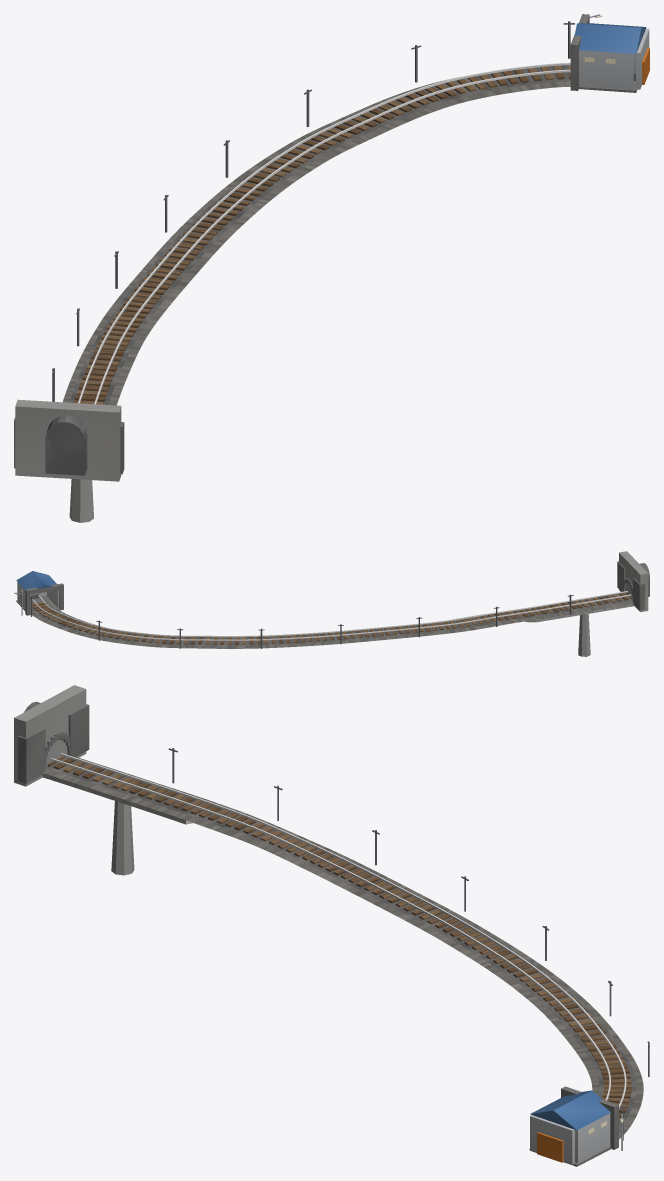
Rendered from Rail_P2.fbx.
3 views of the same model, one above another, from view 1: azimuth 30°, elevation 25°; view 2: azimuth 150°, elevation 25°; view 3: azimuth 270°, elevation 25° (orthographic). The views are drawn at different scales.
Visible parts, largest first — view 1: Rail.Sleepers, Rail.Portal, Rail.Ballast, Rail.Bed, Rail.Shed, Rail.Rail.001, Rail.Rail, Rail.Masts, Rail.Piers; view 2: Rail.Sleepers, Rail.Bed, Rail.Ballast, Rail.Shed, Rail.Portal, Rail.Rail.001, Rail.Rail, Rail.Piers, Rail.Masts, Rail.Deck0; view 3: Rail.Sleepers, Rail.Ballast, Rail.Bed, Rail.Shed, Rail.Portal, Rail.Rail.001, Rail.Rail, Rail.Piers, Rail.Deck0, Rail.Masts.
Part boxes in pixels (x1=…): Rail.Sleepers: x1=73, y1=65, x2=570, y2=404; Rail.Portal: x1=14, y1=399, x2=124, y2=481; Rail.Ballast: x1=62, y1=77, x2=570, y2=405; Rail.Bed: x1=69, y1=65, x2=570, y2=404; Rail.Shed: x1=570, y1=14, x2=649, y2=92; Rail.Rail.001: x1=78, y1=62, x2=633, y2=403; Rail.Rail: x1=94, y1=69, x2=570, y2=404; Rail.Masts: x1=52, y1=21, x2=574, y2=401; Rail.Piers: x1=69, y1=479, x2=93, y2=522; Rail.Sleepers: x1=32, y1=592, x2=632, y2=644; Rail.Bed: x1=30, y1=592, x2=632, y2=645; Rail.Ballast: x1=32, y1=600, x2=633, y2=648; Rail.Shed: x1=16, y1=571, x2=63, y2=615; Rail.Portal: x1=617, y1=551, x2=649, y2=611; Rail.Rail.001: x1=30, y1=594, x2=631, y2=640; Rail.Rail: x1=36, y1=591, x2=627, y2=637; Rail.Piers: x1=578, y1=614, x2=590, y2=656; Rail.Masts: x1=30, y1=594, x2=573, y2=648; Rail.Deck0: x1=525, y1=604, x2=634, y2=622; Rail.Sleepers: x1=47, y1=756, x2=631, y2=1122; Rail.Ballast: x1=42, y1=756, x2=643, y2=1139; Rail.Bed: x1=46, y1=757, x2=636, y2=1128; Rail.Shed: x1=529, y1=1086, x2=618, y2=1166; Rail.Portal: x1=14, y1=685, x2=89, y2=786; Rail.Rail.001: x1=60, y1=753, x2=626, y2=1108; Rail.Rail: x1=51, y1=758, x2=610, y2=1100; Rail.Piers: x1=111, y1=801, x2=134, y2=875; Rail.Deck0: x1=42, y1=773, x2=192, y2=824; Rail.Masts: x1=168, y1=748, x2=649, y2=1140.
Size of the model in its own units: 21790 by 3536 by 14225.
